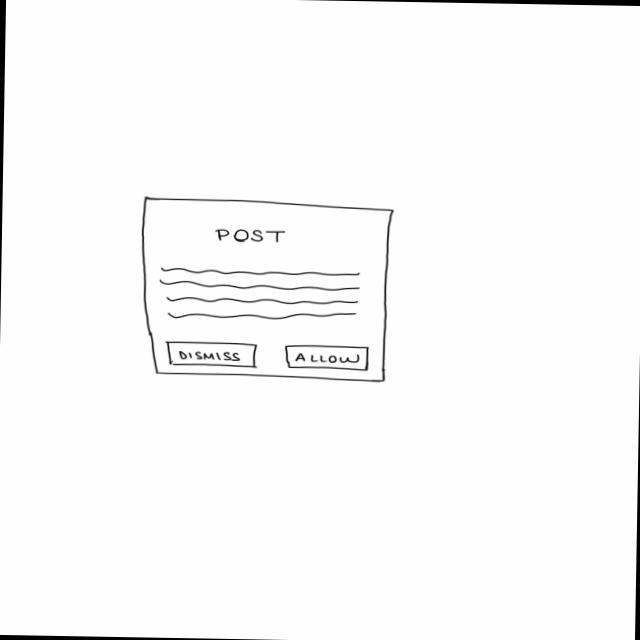button: (164, 338, 259, 369), (284, 343, 371, 372)
container: (135, 194, 397, 386)
label: (216, 226, 288, 246)
textbox: (158, 264, 362, 322)
